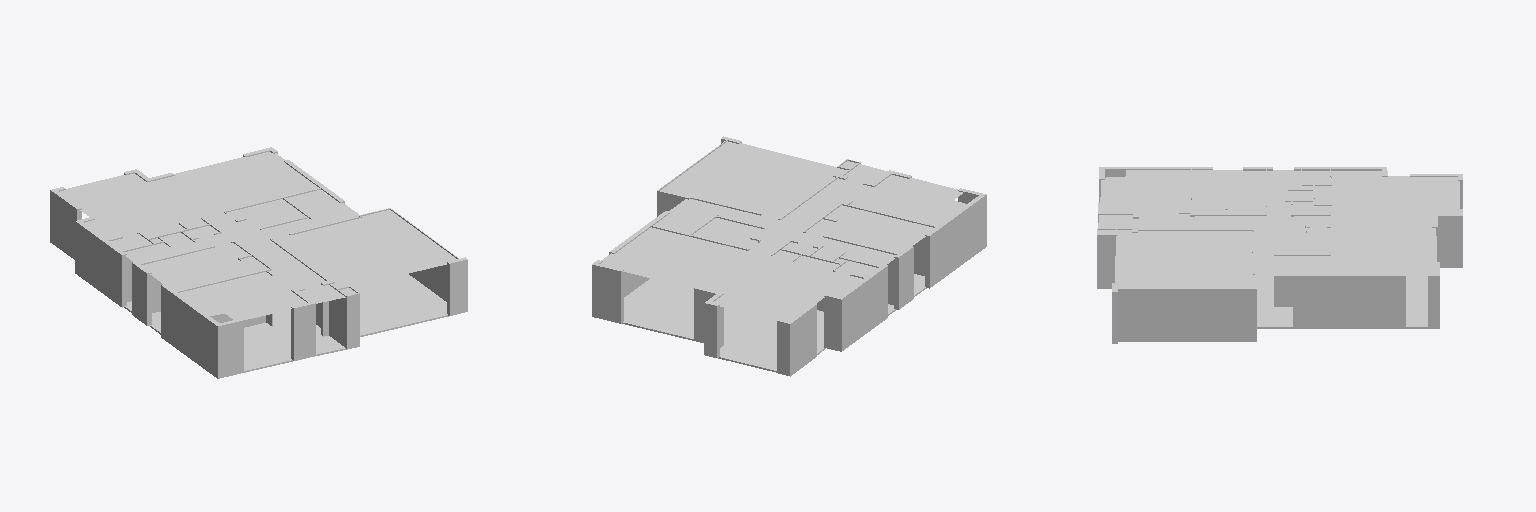
File: scheme_001.obj
The picture shows the model from 3 angles: view 1: azimuth 30°, elevation 25°; view 2: azimuth 150°, elevation 25°; view 3: azimuth 270°, elevation 25°; orthographic projection.
Visible parts, largest first — view 1: Object001, floor_001_walls_29, floor_001_floor_00; view 2: Object001, floor_001_walls_29, floor_001_floor_00; view 3: Object001, floor_001_walls_29, floor_001_floor_00.
Part boxes in pixels (x1,y1,x2,y2): Object001: (60,152,455,319); floor_001_walls_29: (50,147,467,378); floor_001_floor_00: (124,274,448,376); Object001: (601,141,966,320); floor_001_walls_29: (592,136,986,376); floor_001_floor_00: (622,274,926,372); Object001: (1098,170,1459,288); floor_001_walls_29: (1097,167,1462,343); floor_001_floor_00: (1097,276,1427,341).
Bounding box in the file's own units: 13.38 × 2.67 × 16.54.